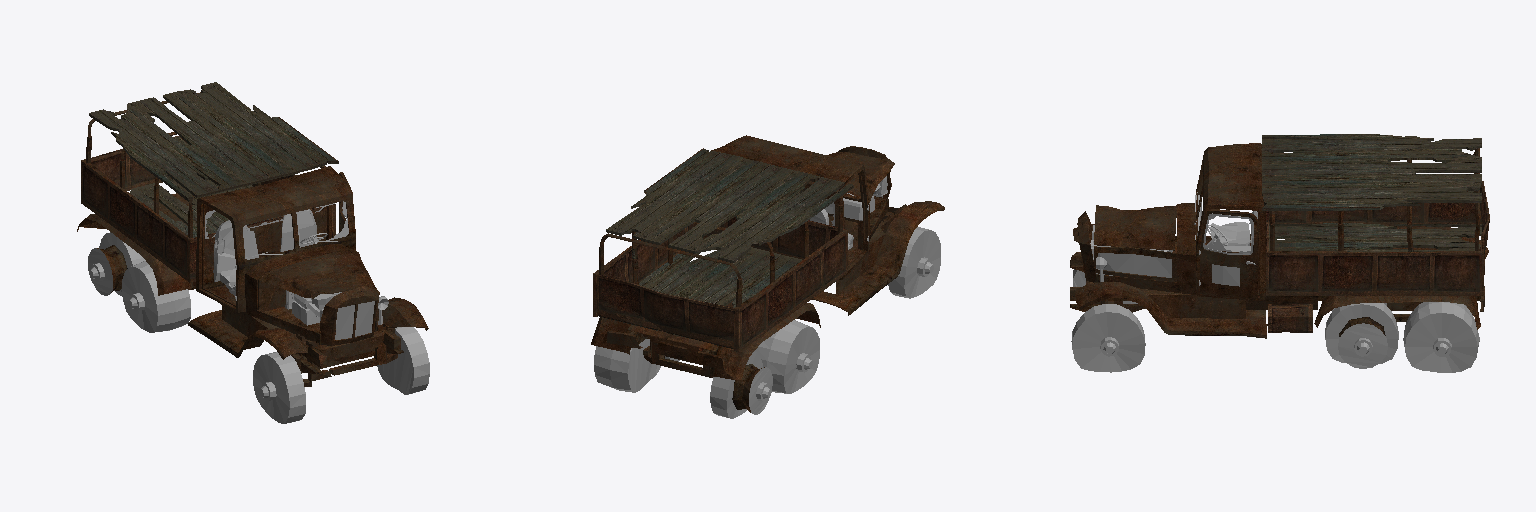
The picture shows the model from 3 angles: view 1: azimuth 30°, elevation 25°; view 2: azimuth 150°, elevation 25°; view 3: azimuth 270°, elevation 25°; orthographic projection.
Size of the model in its own units: 5.71 by 5.51 by 12.31.
2 materials, 1 textured.